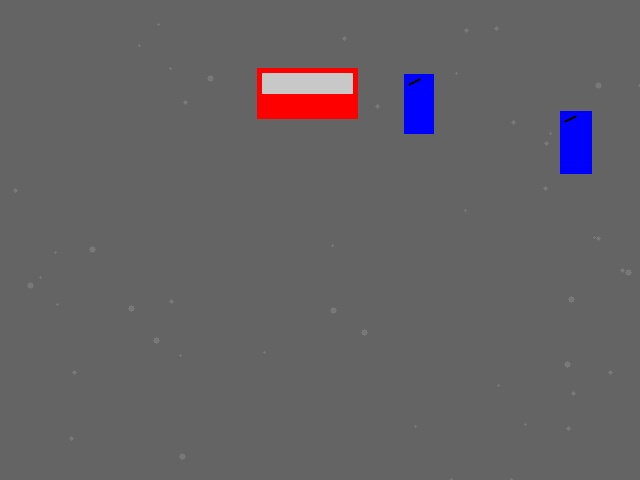car: (257, 68, 357, 118)
motorcycle: (560, 111, 591, 173), (404, 74, 433, 133)
